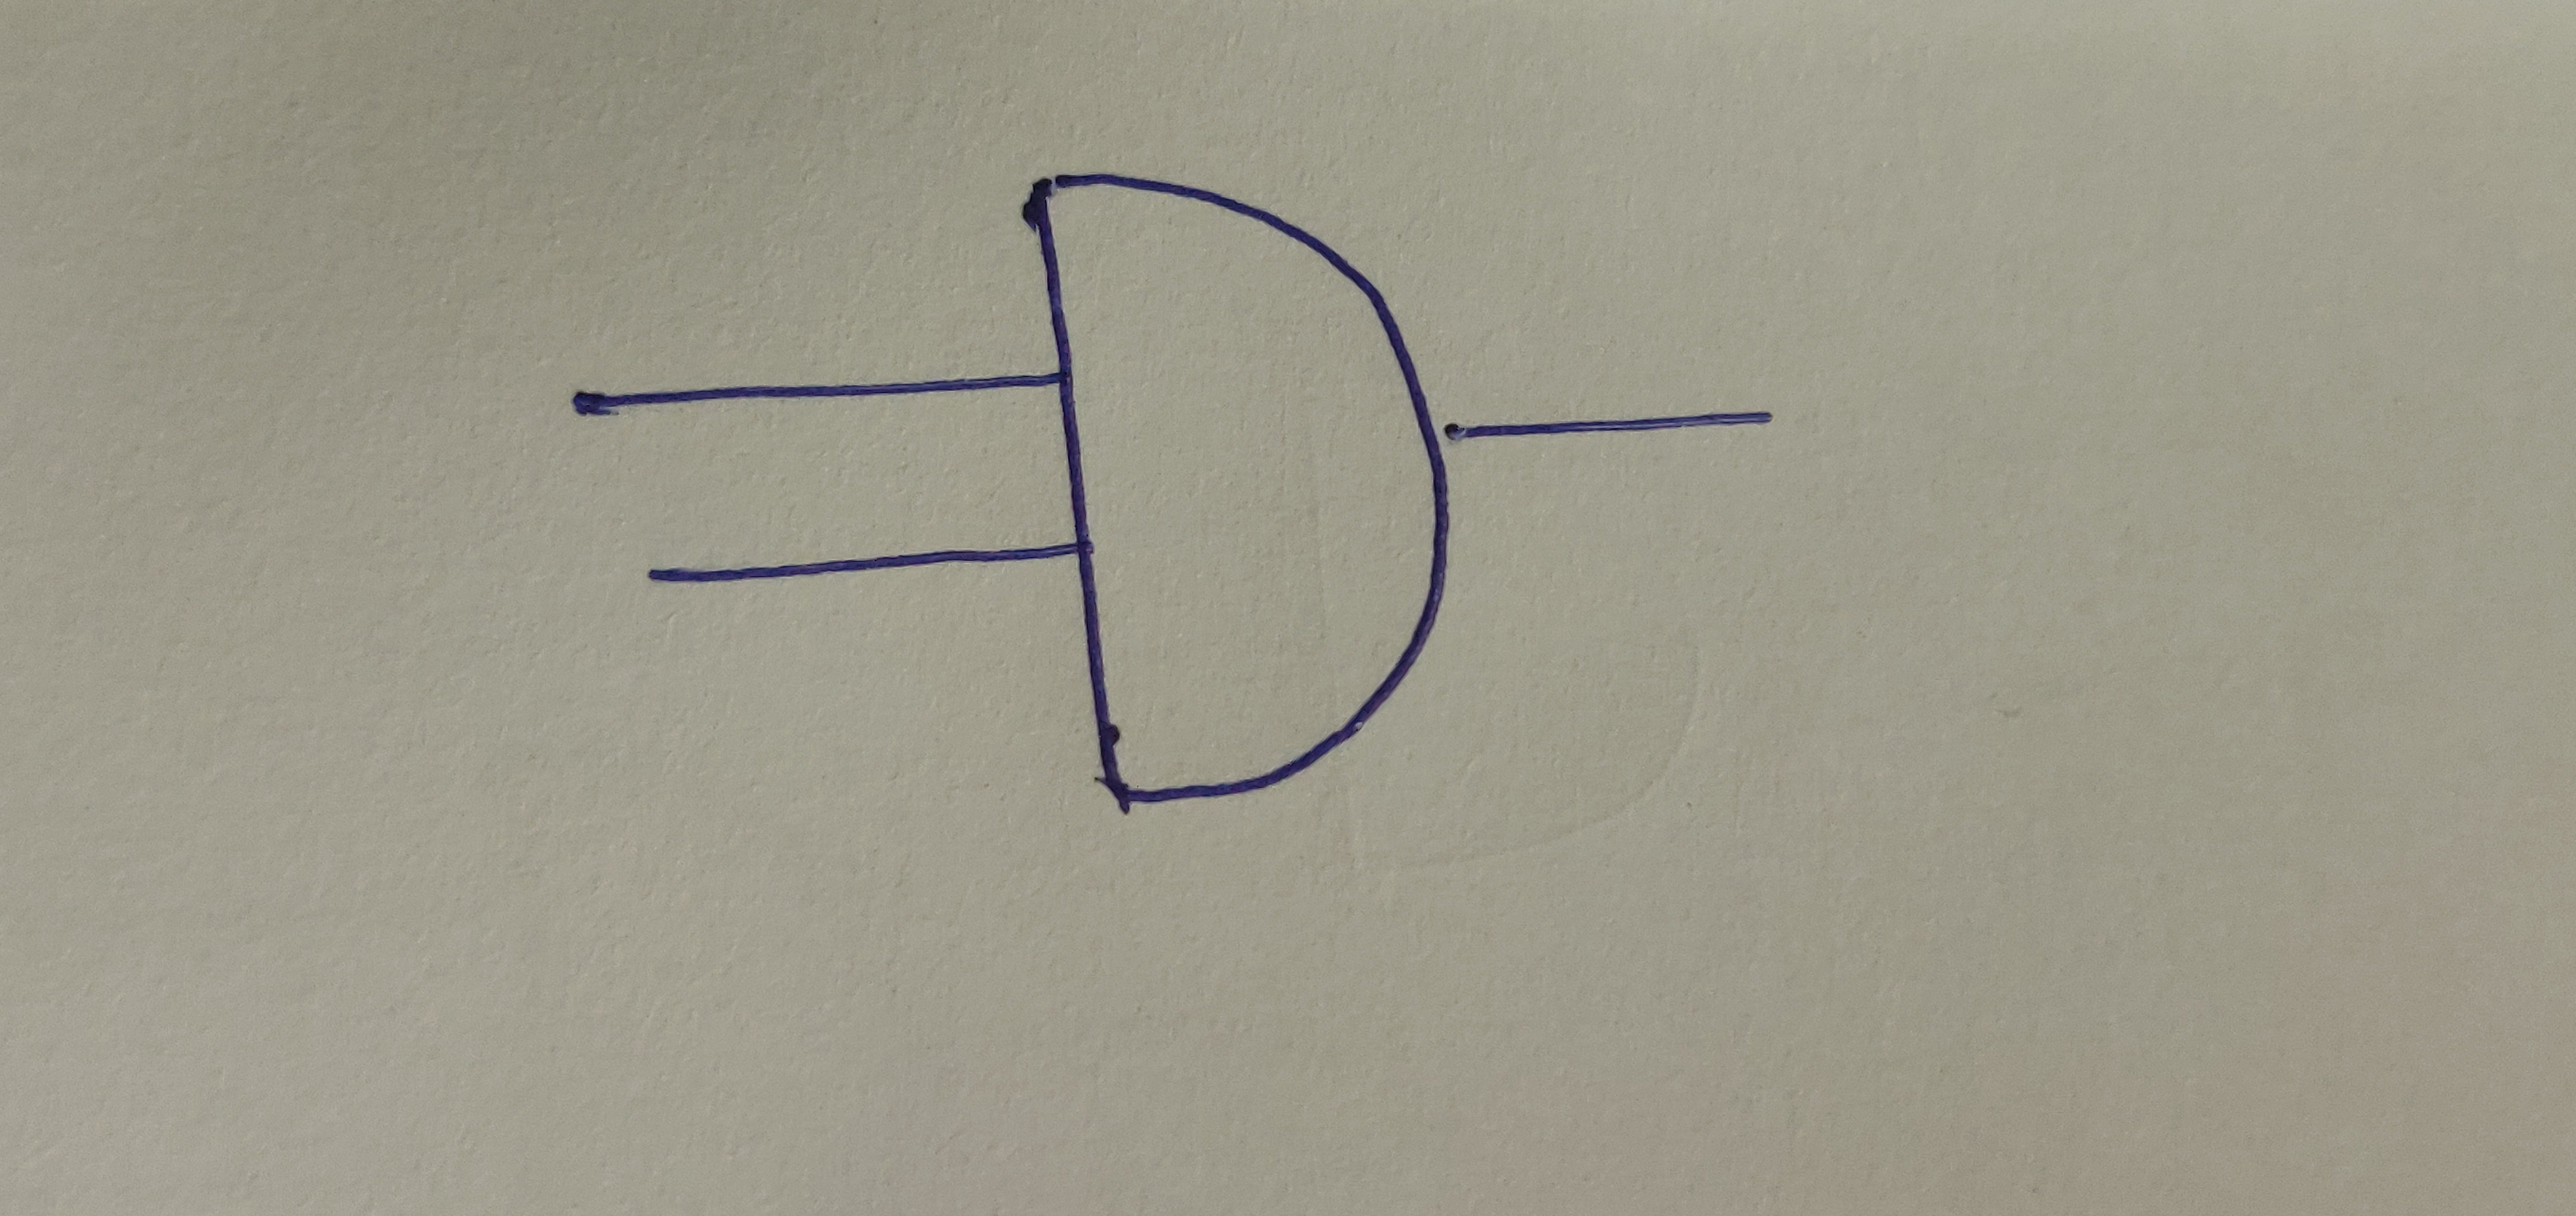and: (1012, 166, 1457, 808)
